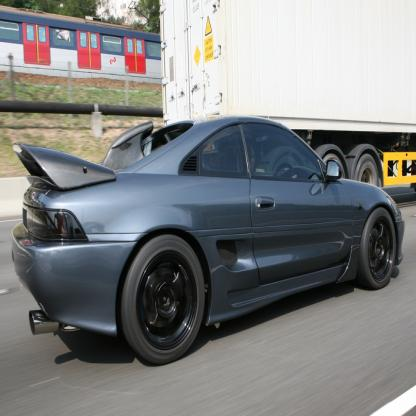Car: (11, 113, 407, 363)
